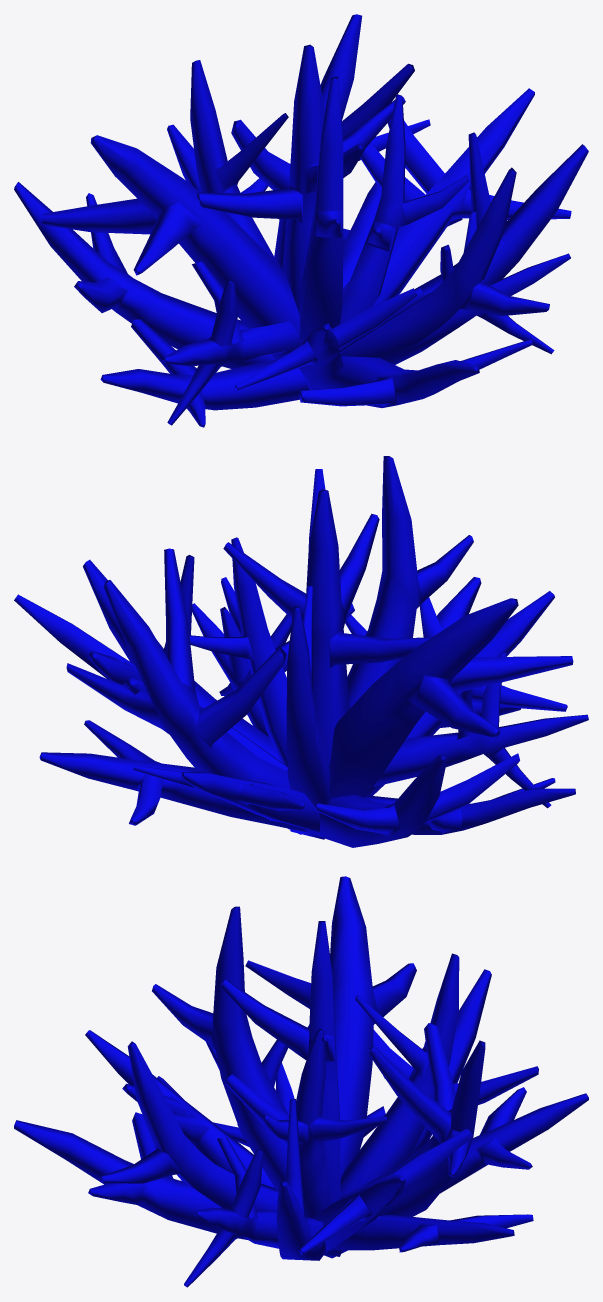
The model's file is staghorn_coralbunch_001.fbx.
3 renders of one model, top to bottom at view 1: azimuth 30°, elevation 25°; view 2: azimuth 150°, elevation 25°; view 3: azimuth 270°, elevation 25°, orthographic. The views are drawn at different scales.
Parts seen in each view (by area): view 1: staghorn_coral_low; view 2: staghorn_coral_low; view 3: staghorn_coral_low.
Boxes of the visible parts, box(x1,y1,x2,y2) form: staghorn_coral_low: box(14, 14, 588, 427); staghorn_coral_low: box(14, 456, 588, 847); staghorn_coral_low: box(14, 876, 588, 1287).
Size of the model in its own units: 72.78 by 49.59 by 76.37.
